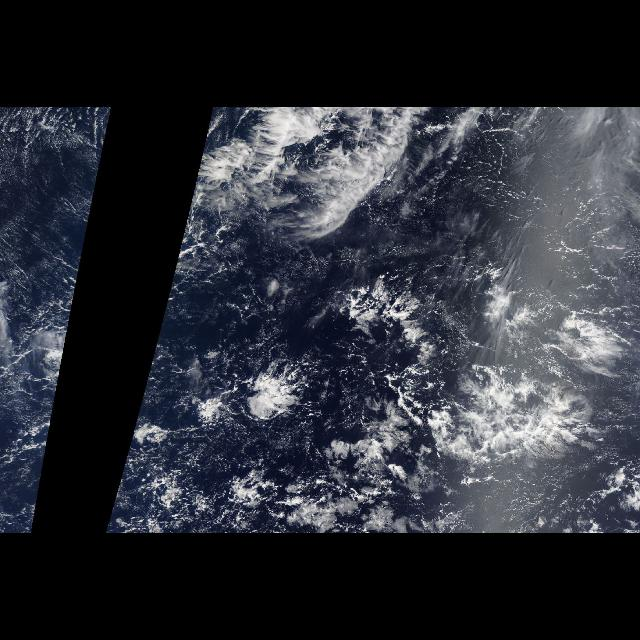Flower: (122, 280, 414, 532)
Gravel: (118, 401, 462, 533)
Sugar: (0, 107, 112, 360), (150, 315, 163, 361)
